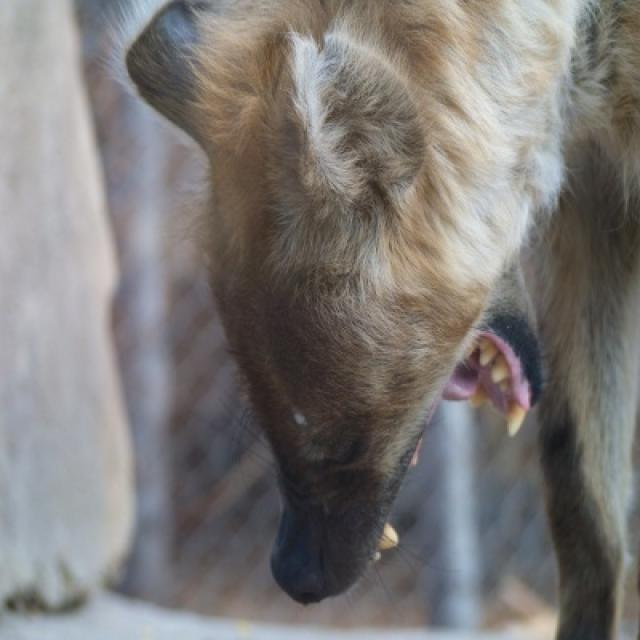hyena: (126, 0, 638, 638)
